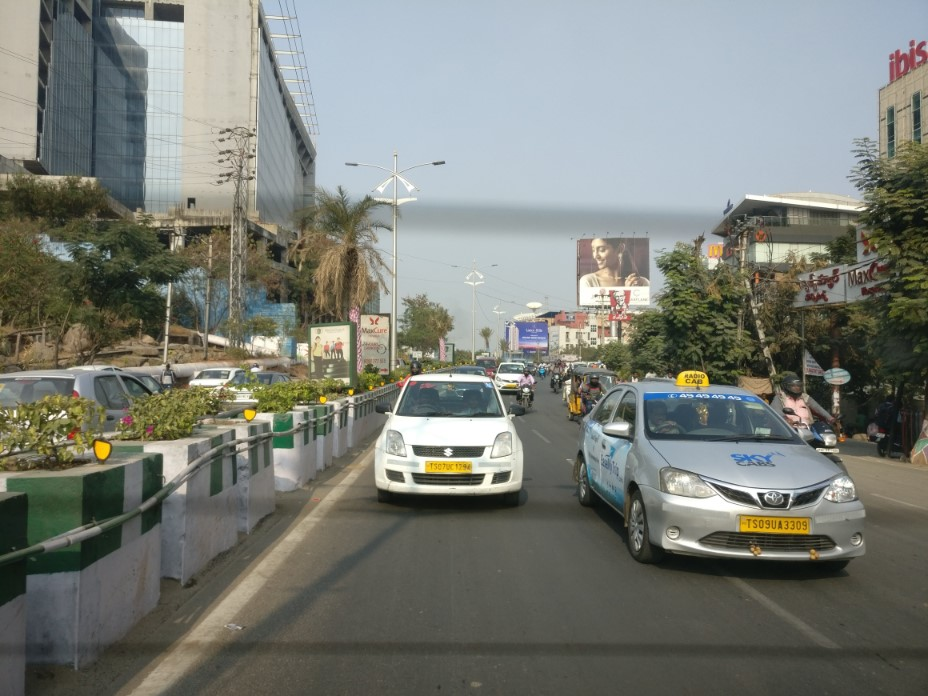swift desire: (374, 374, 526, 501)
